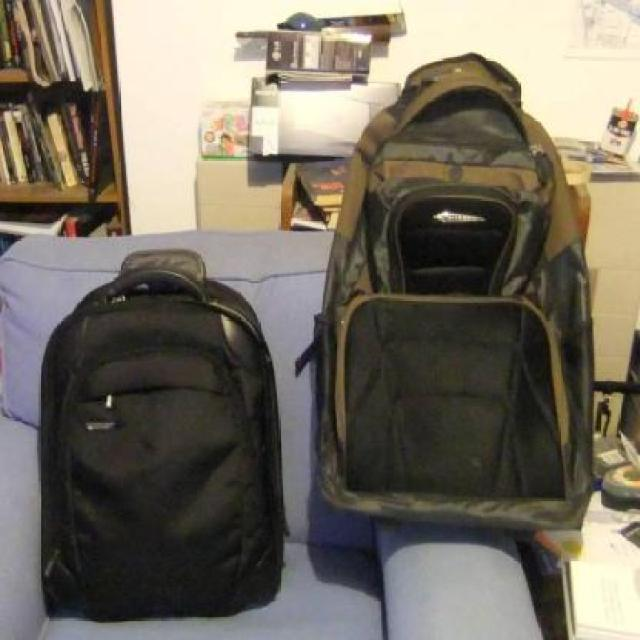backpack: (304, 46, 602, 540), (28, 245, 295, 624)
